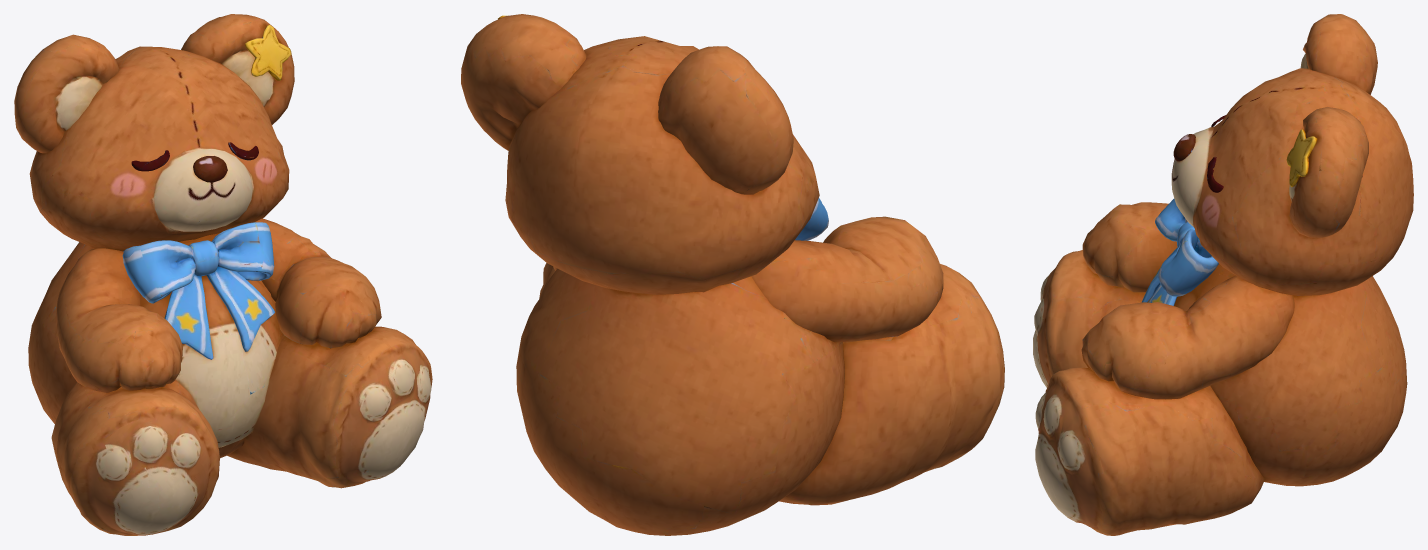
The model's file is teddy_bear.glb.
The picture shows the model from 3 angles, left to right: view 1: azimuth 30°, elevation 25°; view 2: azimuth 150°, elevation 25°; view 3: azimuth 270°, elevation 25°; orthographic projection. The views are drawn at different scales.
Size of what is drawn, in the model's own units: 0.9601 by 1 by 0.8313.
Materials: 1 (1 with a texture image).
